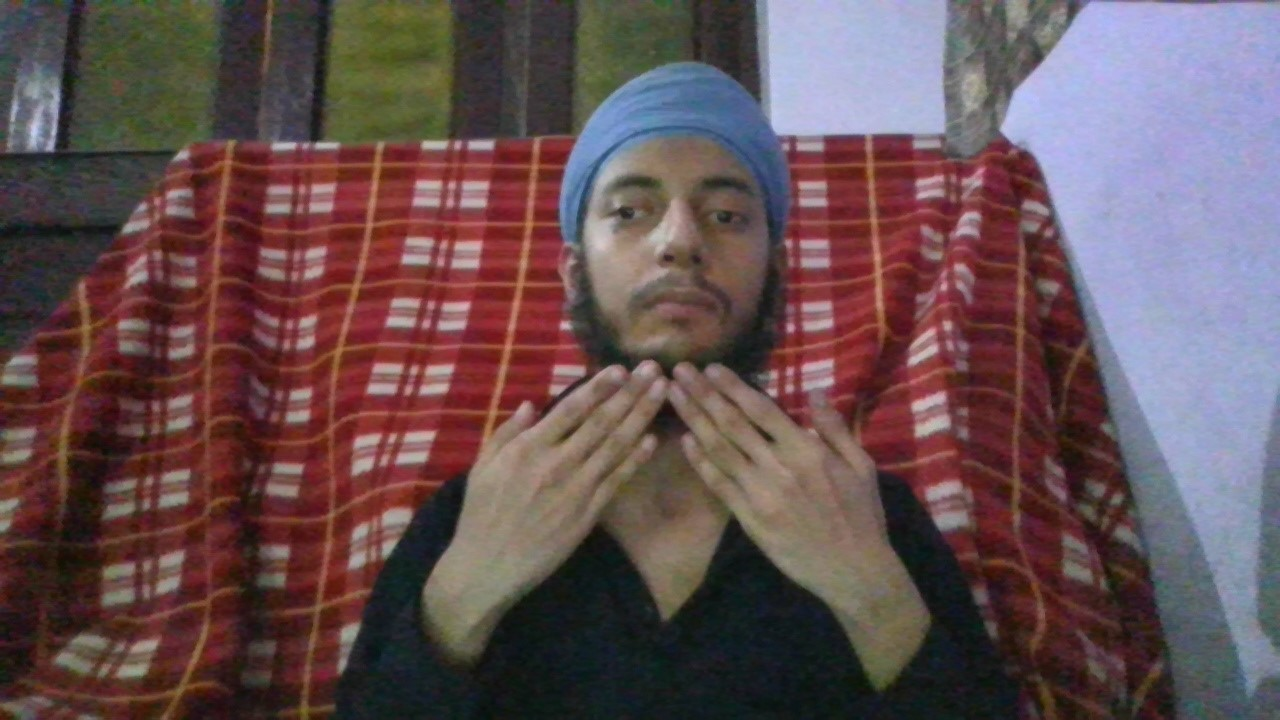Thank You: (454, 361, 895, 556)
